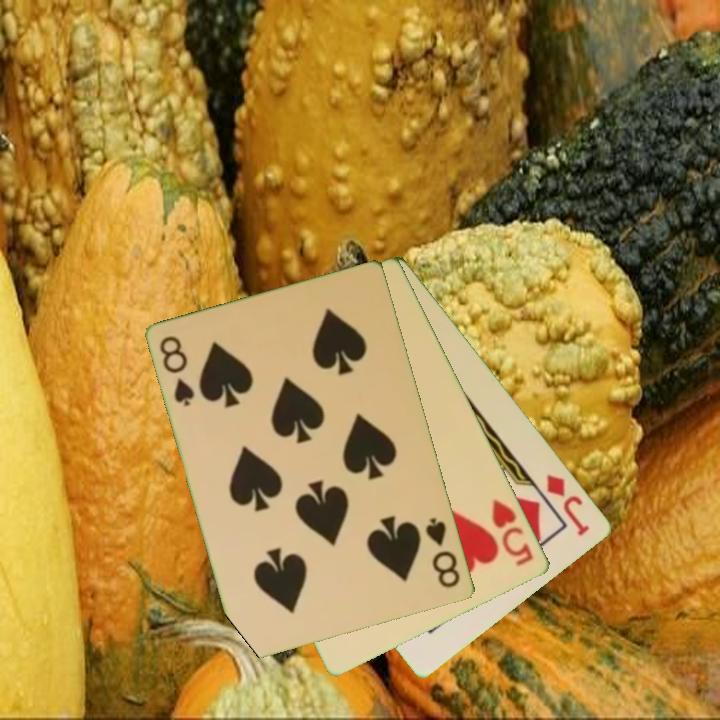5h: (488, 495, 537, 569)
8s: (156, 332, 198, 410), (422, 514, 464, 591)
Jd: (543, 470, 594, 539)
